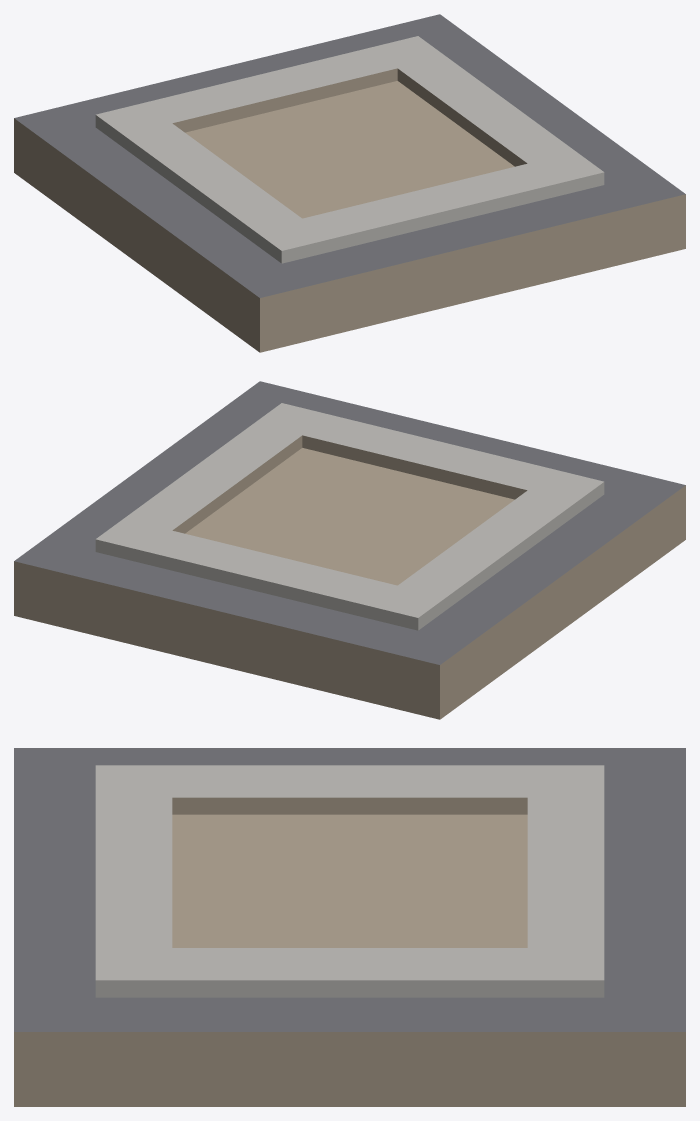
File: Button01.fbx
3 views of the same model, one above another, from view 1: azimuth 30°, elevation 25°; view 2: azimuth 150°, elevation 25°; view 3: azimuth 270°, elevation 25° (orthographic). The views are drawn at different scales.
Parts seen in each view (by area): view 1: Fläche; view 2: Fläche; view 3: Fläche.
Boxes of the visible parts, bbox=[...] form: Fläche: bbox=[14, 14, 685, 352]; Fläche: bbox=[14, 381, 685, 719]; Fläche: bbox=[14, 748, 685, 1106].
Bounding box in the file's own units: 200 × 30.21 × 200.
